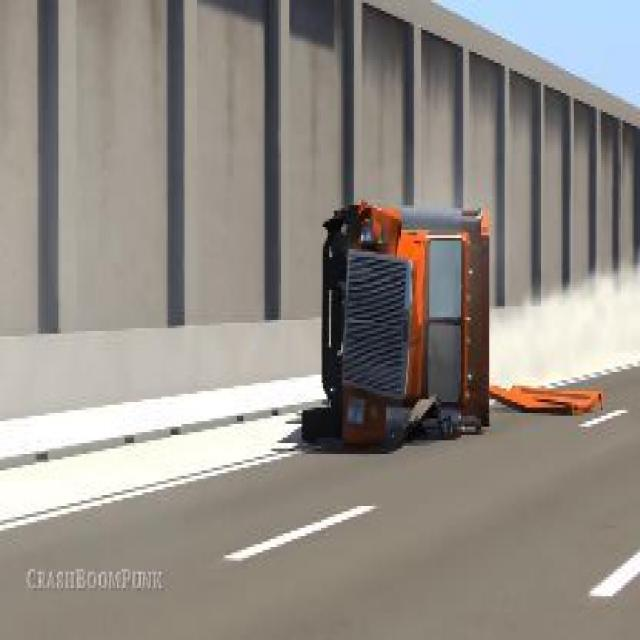accident: (298, 192, 498, 459)
